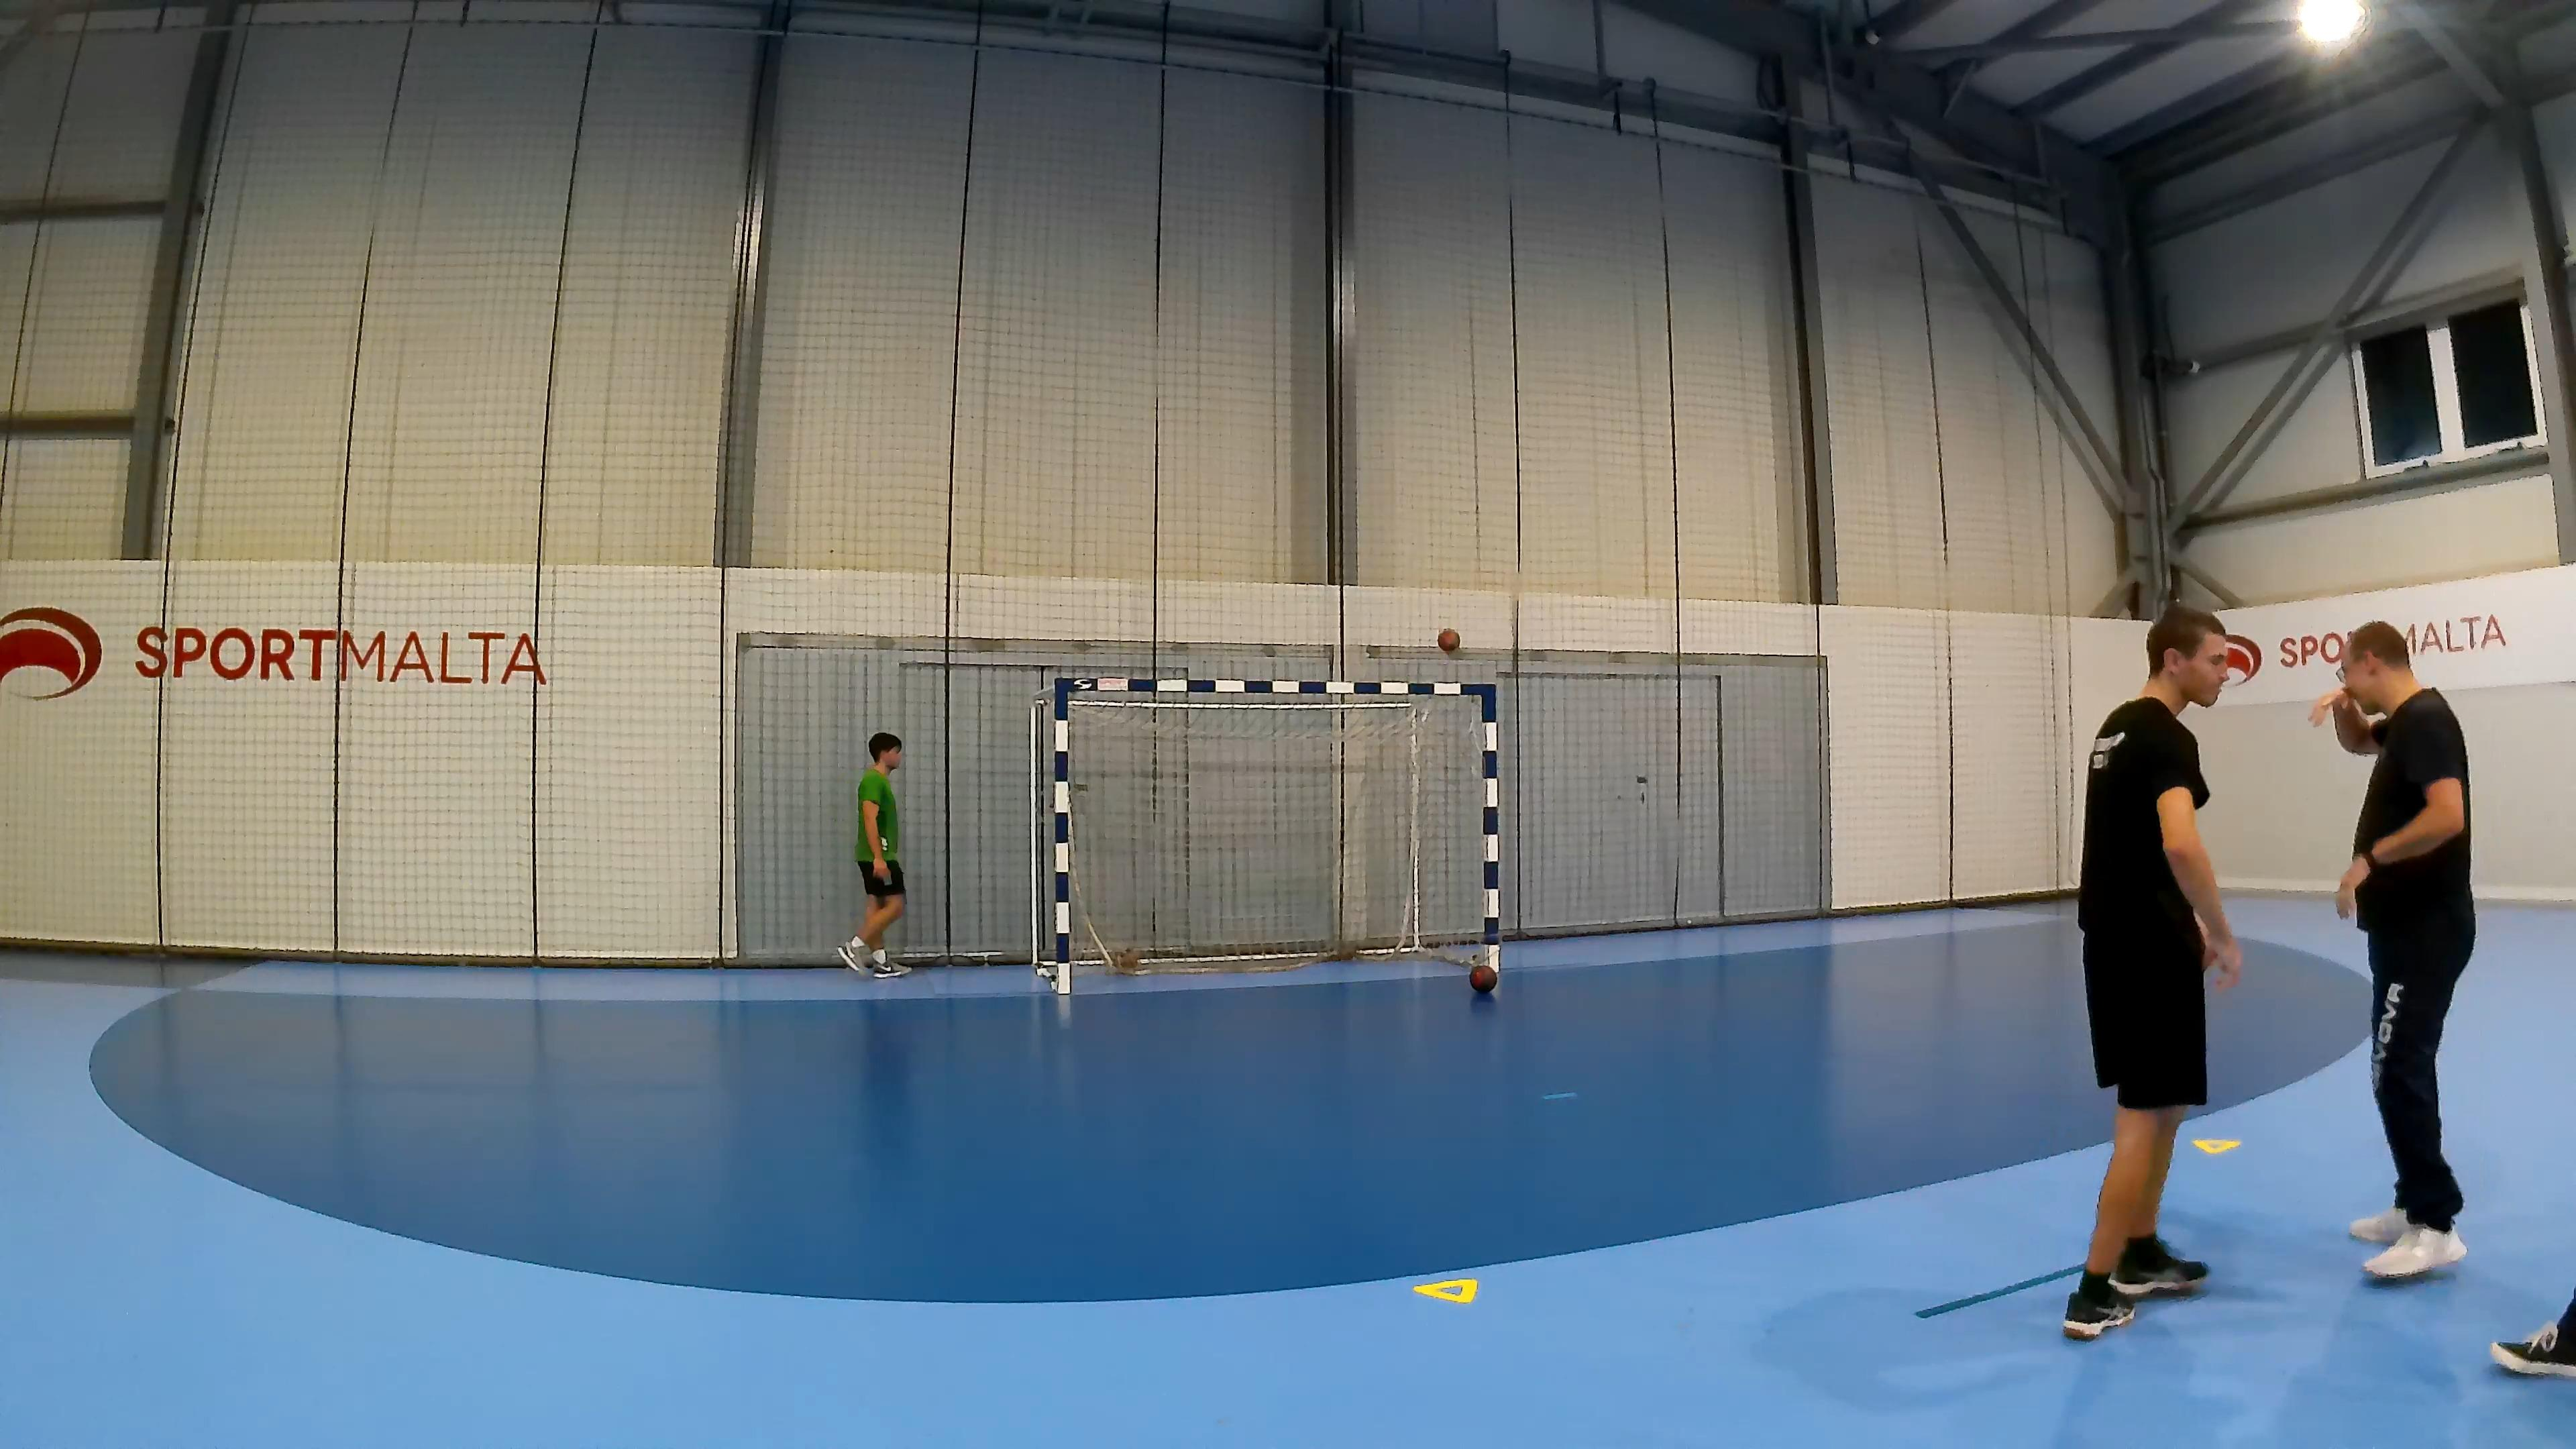handball: (1468, 962, 1497, 991), (1435, 626, 1460, 653)
